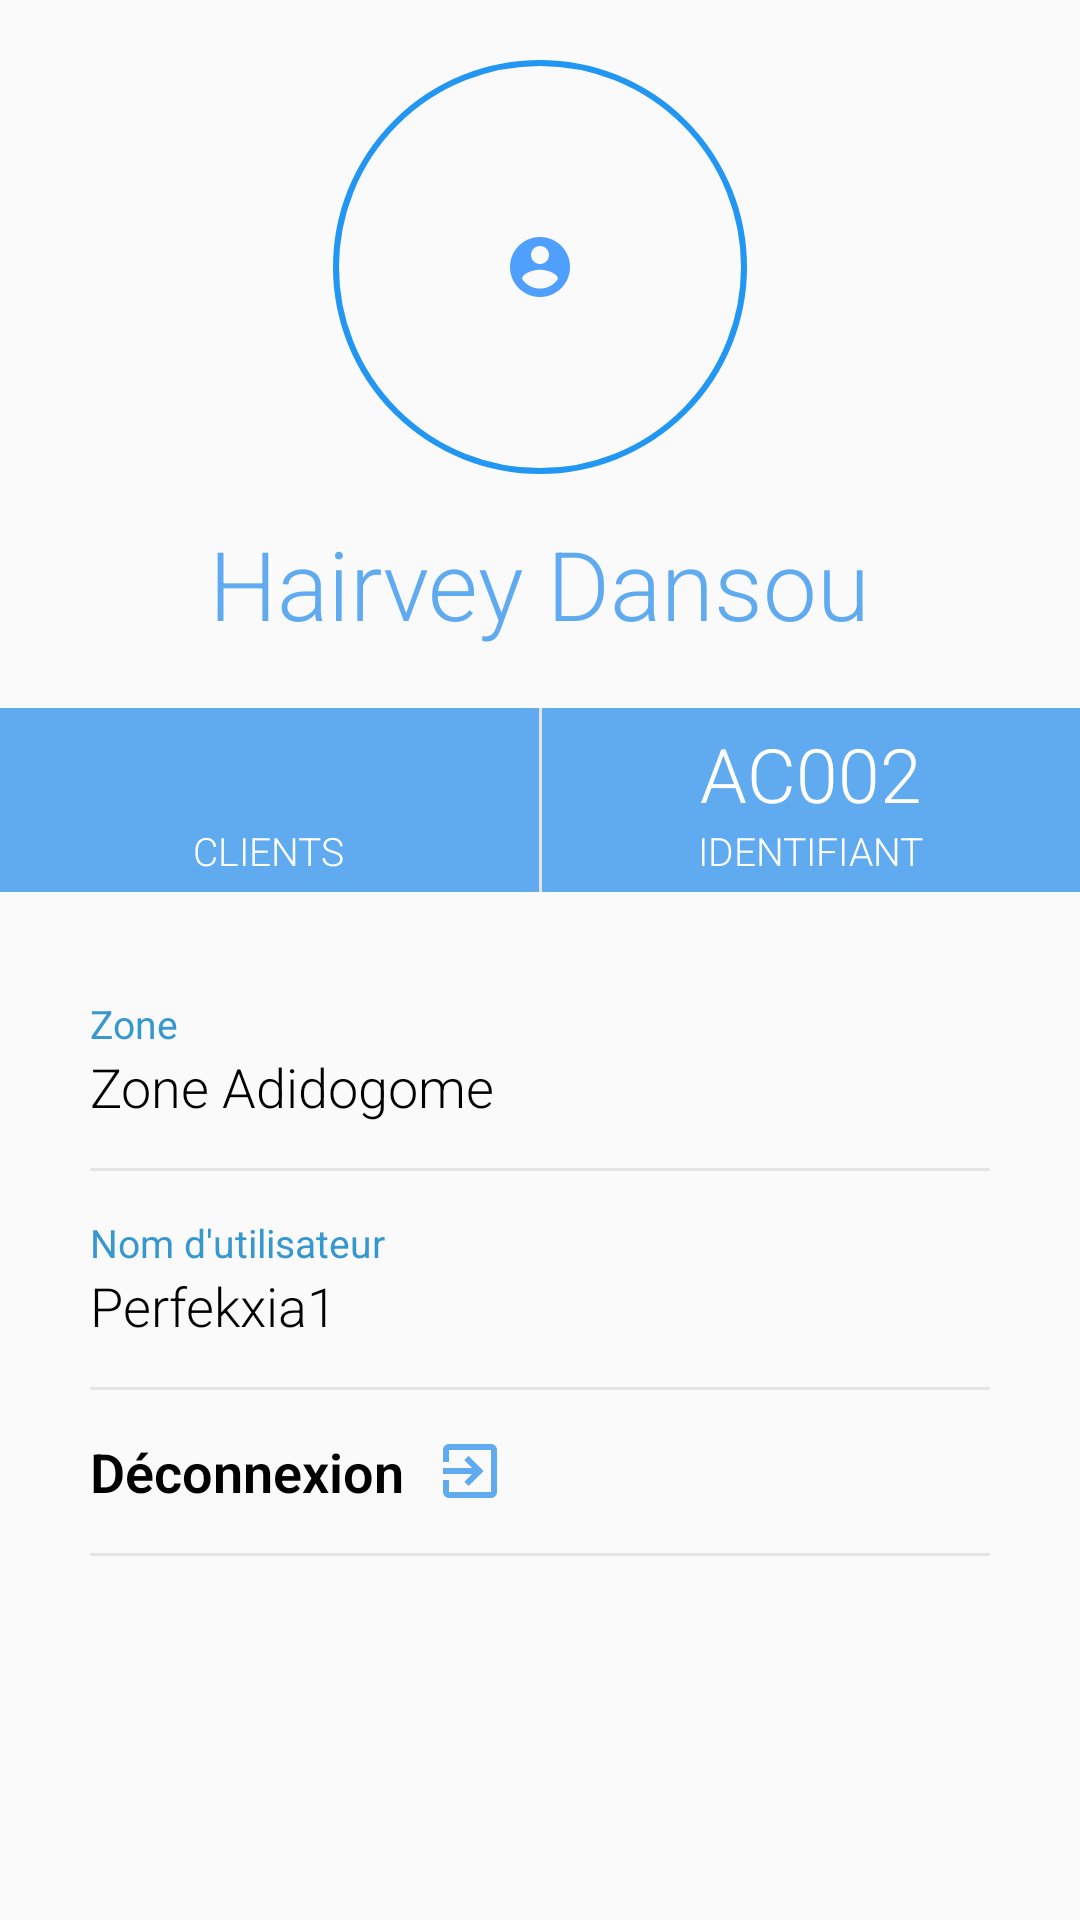

Named icons in this screenshot (1080px x 1920px) and their bounding boxes, (x1, y1, x2, y2):
exit to app: (443, 1444, 497, 1498)
